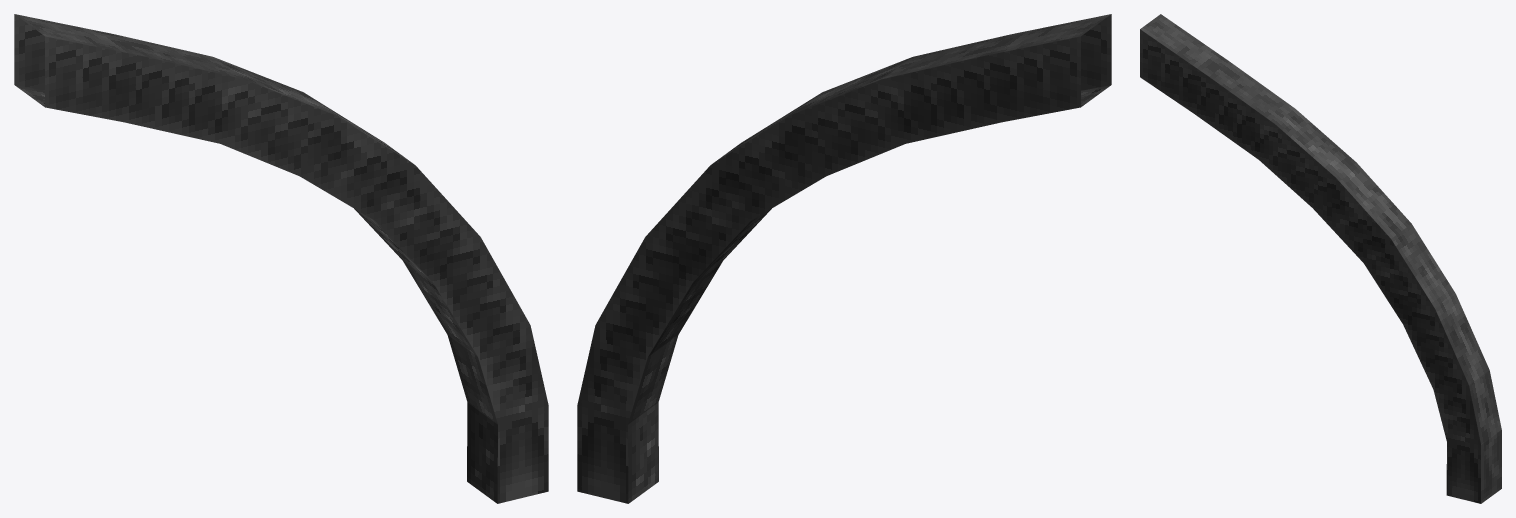
Rendered from MDL_Archway.glb.
3 views of the same model, side by side, from view 1: azimuth 30°, elevation 25°; view 2: azimuth 150°, elevation 25°; view 3: azimuth 330°, elevation 25° (orthographic). The views are drawn at different scales.
Parts seen in each view (by area): view 1: cylinder; view 2: cylinder; view 3: cylinder.
Part boxes in pixels (box(x1,y1,x2,y2)): cylinder: box(14, 14, 548, 503); cylinder: box(577, 14, 1111, 503); cylinder: box(1140, 14, 1501, 503).
Bounding box in the file's own units: 2.38 × 2.61 × 0.25.
Materials: 1 (1 with a texture image).
